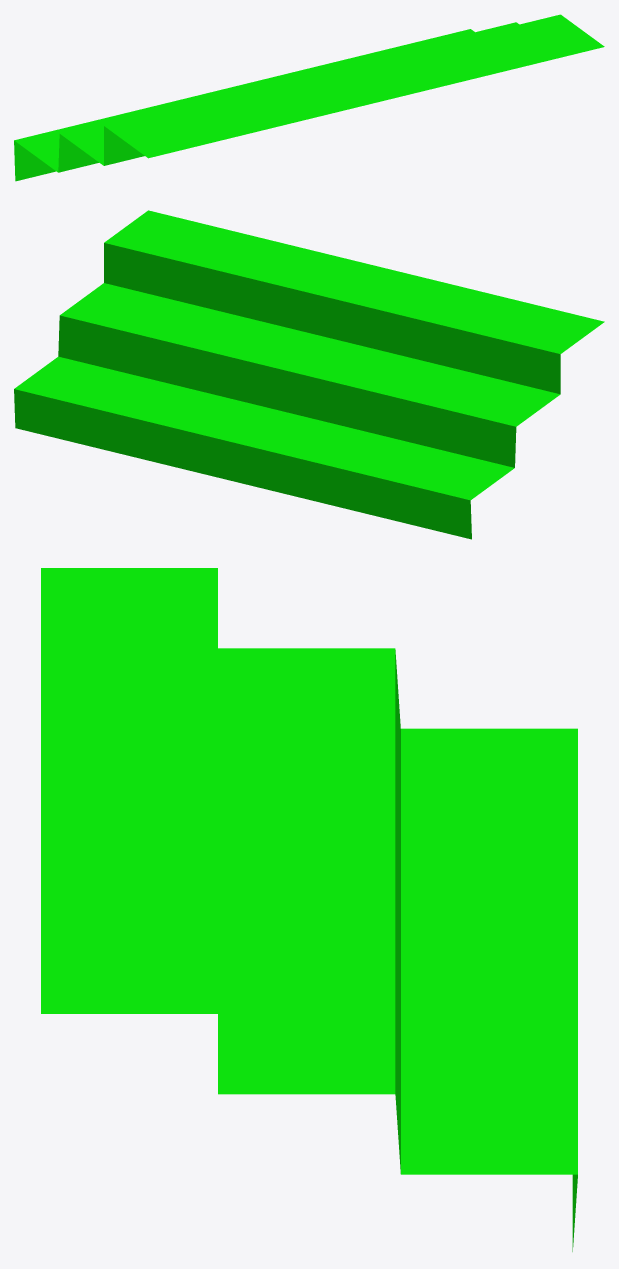
File: Escaliers_2_Blocking.fbx
3 renders of one model, top to bottom at view 1: azimuth 30°, elevation 25°; view 2: azimuth 150°, elevation 25°; view 3: azimuth 270°, elevation 25°, orthographic. The views are drawn at different scales.
Visible parts, largest first — view 1: Stairs_blocking; view 2: Stairs_blocking; view 3: Stairs_blocking.
Boxes of the visible parts, x1,y1,x2,y2 form: Stairs_blocking: [14, 14, 604, 181]; Stairs_blocking: [14, 210, 604, 539]; Stairs_blocking: [41, 568, 577, 1251].
Bounding box in the file's own units: 3.5 × 0.8824 × 1.78.
